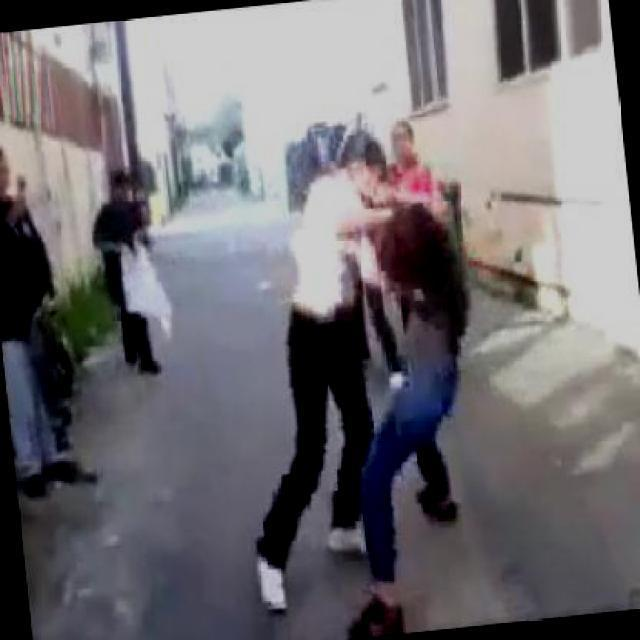fight: (250, 116, 482, 635)
